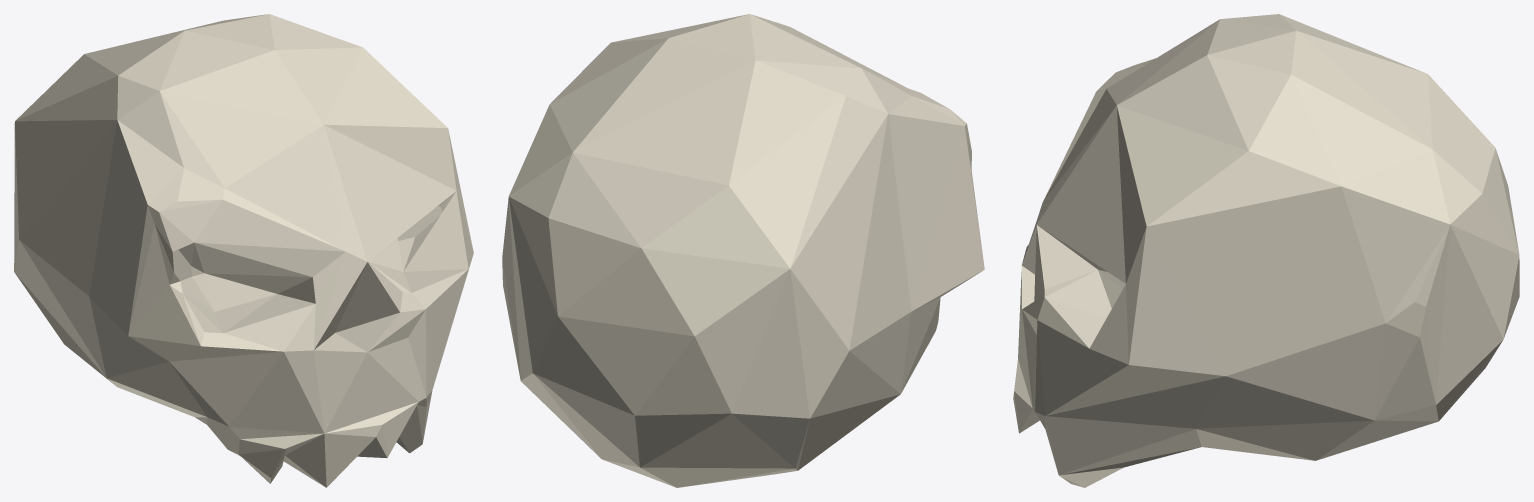
The model's file is Skull_sml.fbx.
3 renders of one model, left to right at view 1: azimuth 30°, elevation 25°; view 2: azimuth 150°, elevation 25°; view 3: azimuth 270°, elevation 25°, orthographic. The views are drawn at different scales.
Visible parts, largest first — view 1: Skull_sml; view 2: Skull_sml; view 3: Skull_sml.
Boxes of the visible parts, left/top/right/bottom form: Skull_sml: left=14, top=14, right=473, bottom=487; Skull_sml: left=502, top=14, right=984, bottom=487; Skull_sml: left=1013, top=14, right=1519, bottom=487.
Size of the model in its own units: 78.24 by 81.56 by 95.
